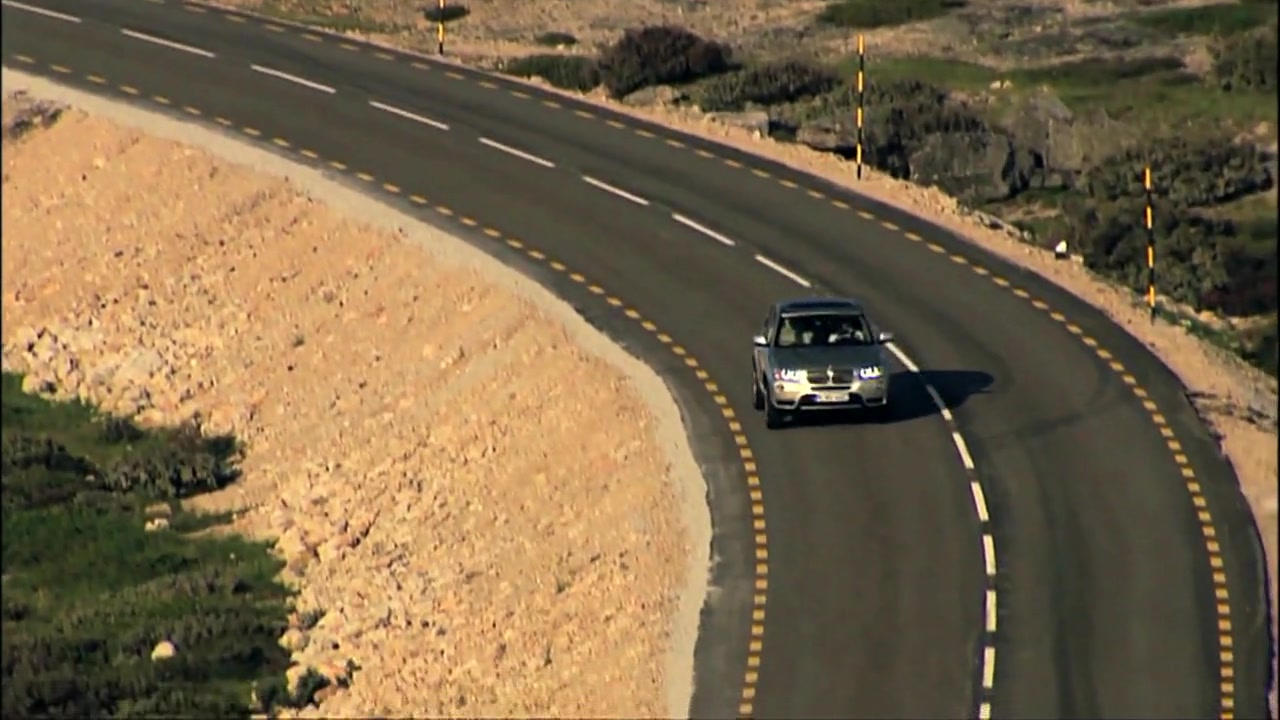car: (750, 297, 900, 426)
